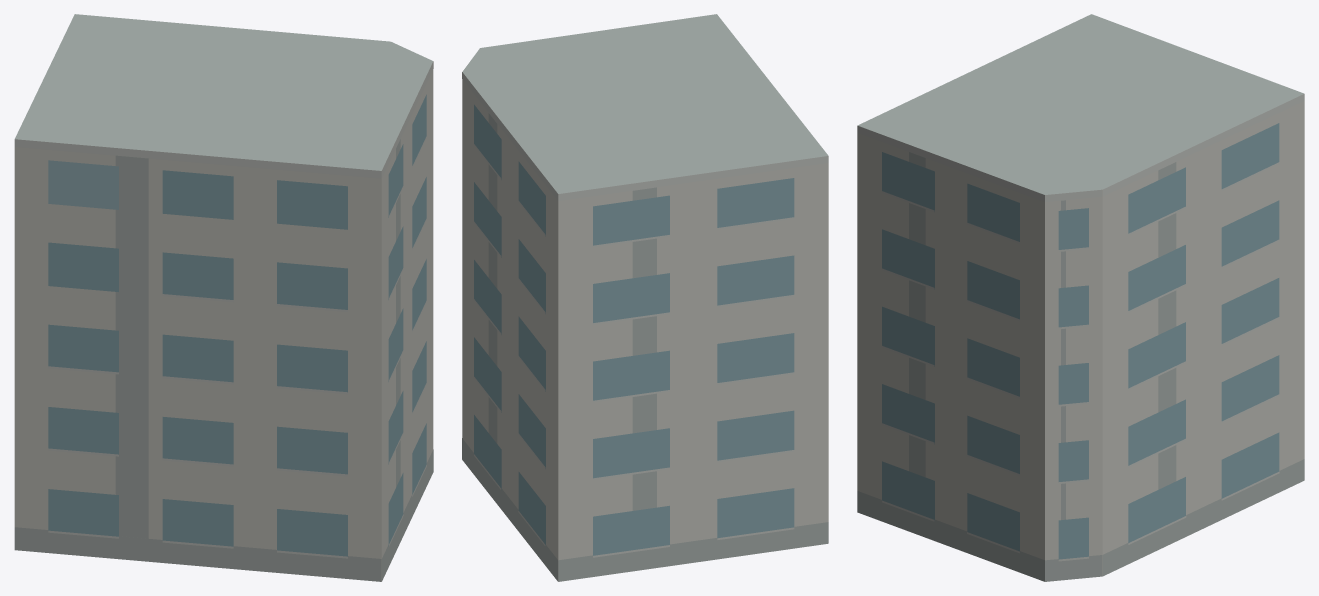
The model's file is survey-upis-32970028.glb.
3 renders of one model, left to right at view 1: azimuth 30°, elevation 25°; view 2: azimuth 150°, elevation 25°; view 3: azimuth 270°, elevation 25°, orthographic. The views are drawn at different scales.
Visible parts, largest first — view 1: survey-upis-32970028.tmp; view 2: survey-upis-32970028.tmp; view 3: survey-upis-32970028.tmp.
Boxes of the visible parts, x1,y1,x2,y2 form: survey-upis-32970028.tmp: (14, 14, 433, 581); survey-upis-32970028.tmp: (462, 14, 828, 581); survey-upis-32970028.tmp: (857, 14, 1304, 581).
Bounding box in the file's own units: 13.06 × 13 × 13.63.
